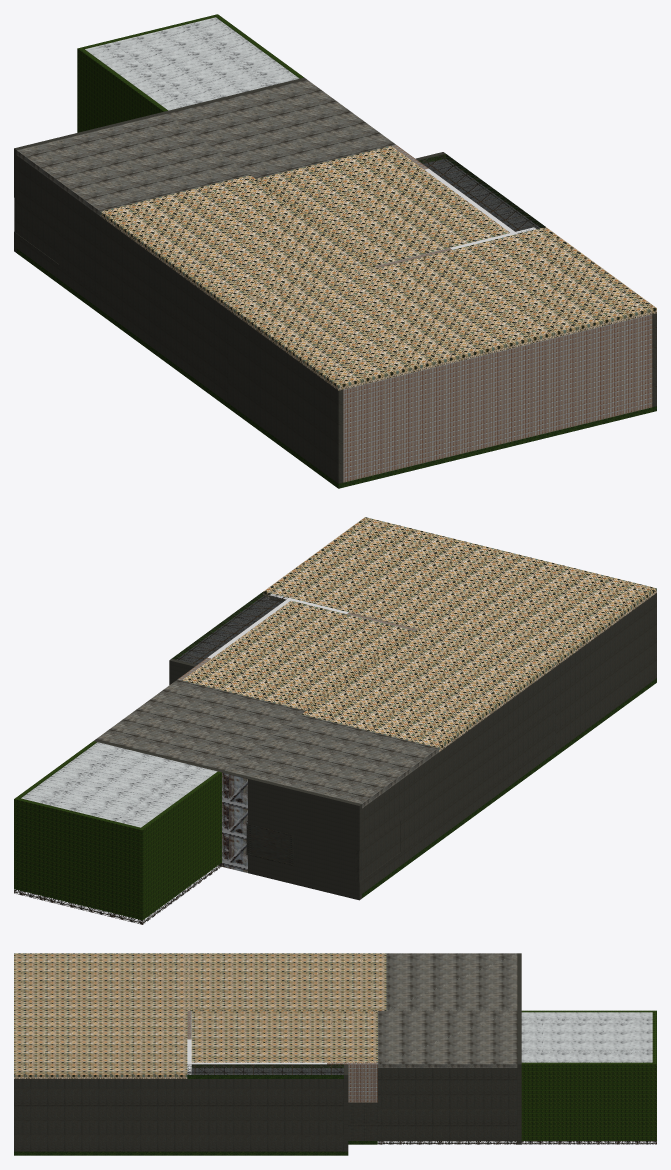
File: dfinal.fbx
3 renders of one model, top to bottom at view 1: azimuth 30°, elevation 25°; view 2: azimuth 150°, elevation 25°; view 3: azimuth 270°, elevation 25°, orthographic. The views are drawn at different scales.
Parts seen in each view (by area): view 1: Mesh_261, Mesh_069, Mesh_244, Mesh_125, Mesh_243, Mesh_036, Mesh_264, Mesh_026, Mesh_060, Mesh_017, Mesh_163, Mesh_023 (+10 smaller); view 2: Mesh_261, Mesh_244, Mesh_125, Mesh_159, Mesh_243, Mesh_036, Mesh_264, Mesh_026, Mesh_163, Mesh_021, Mesh_017, Mesh_060 (+13 smaller); view 3: Mesh_261, Mesh_244, Mesh_265, Mesh_031, Mesh_032, Mesh_125, Mesh_155, Mesh_036, Mesh_243, Mesh_226, Mesh_060, Mesh_242 (+15 smaller).
Boxes of the visible parts, box(x1,y1,x2,y2) form: Mesh_261: box(227, 227, 656, 390); Mesh_069: box(343, 314, 652, 482); Mesh_244: box(100, 175, 377, 309); Mesh_125: box(256, 146, 509, 265); Mesh_243: box(16, 114, 249, 216); Mesh_036: box(167, 79, 395, 178); Mesh_264: box(227, 310, 343, 483); Mesh_026: box(16, 155, 227, 353); Mesh_060: box(125, 34, 257, 93); Mesh_017: box(106, 265, 227, 387); Mesh_163: box(80, 49, 167, 131); Mesh_023: box(16, 234, 227, 402); Mesh_261: box(263, 517, 656, 666); Mesh_244: box(302, 629, 555, 751); Mesh_125: box(182, 600, 414, 710); Mesh_159: box(14, 797, 145, 920); Mesh_243: box(225, 714, 438, 808); Mesh_036: box(96, 679, 305, 770); Mesh_264: box(555, 593, 656, 752); Mesh_026: box(362, 667, 555, 848); Mesh_163: box(141, 771, 221, 918); Mesh_021: box(248, 777, 361, 850); Mesh_017: box(443, 708, 555, 820); Mesh_060: box(59, 757, 180, 812); Mesh_261: box(14, 953, 187, 1078); Mesh_244: box(187, 953, 386, 1010); Mesh_265: box(14, 1079, 166, 1151); Mesh_031: box(521, 1062, 652, 1140); Mesh_032: box(377, 1068, 517, 1140); Mesh_125: box(191, 1010, 377, 1062); Mesh_155: box(166, 1079, 343, 1132); Mesh_036: box(377, 1010, 517, 1067); Mesh_243: box(386, 953, 517, 1010); Mesh_226: box(166, 1132, 343, 1151); Mesh_060: box(543, 1022, 631, 1051); Mesh_242: box(187, 1064, 343, 1078).
Size of the model in its own units: 106 by 32.7 by 237.
38 materials, 36 textured.
